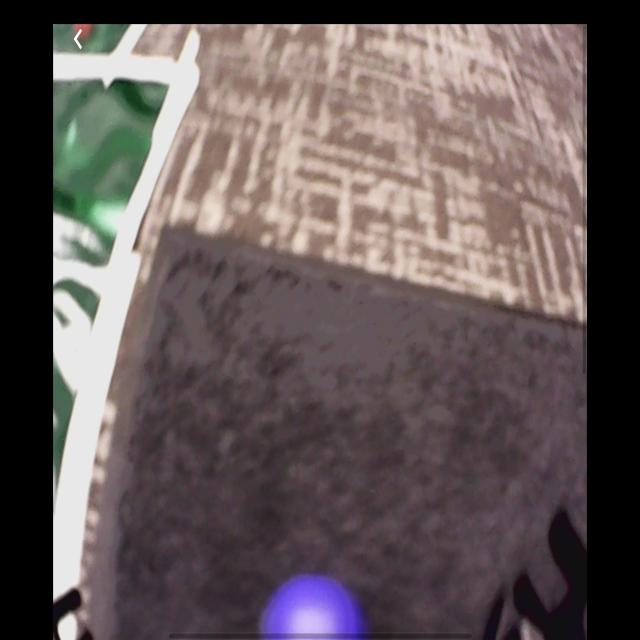ball: (260, 574, 356, 636)
